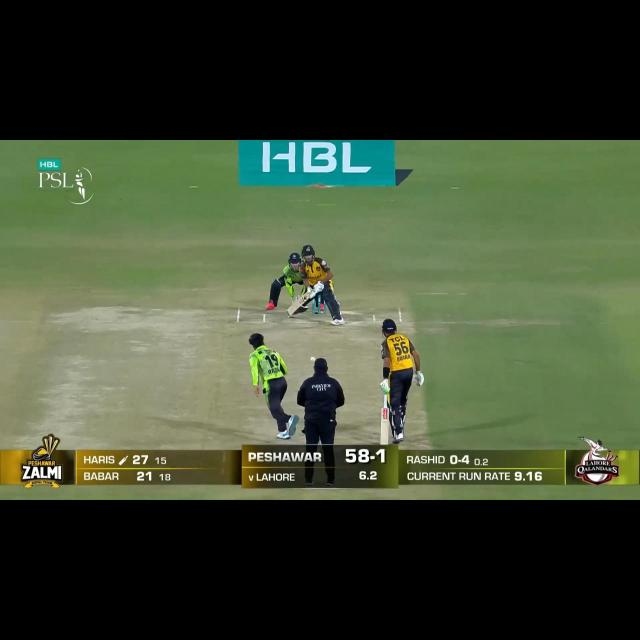bat: (287, 293, 311, 317), (378, 408, 392, 446)
toe: (376, 439, 393, 445), (286, 308, 295, 316)
